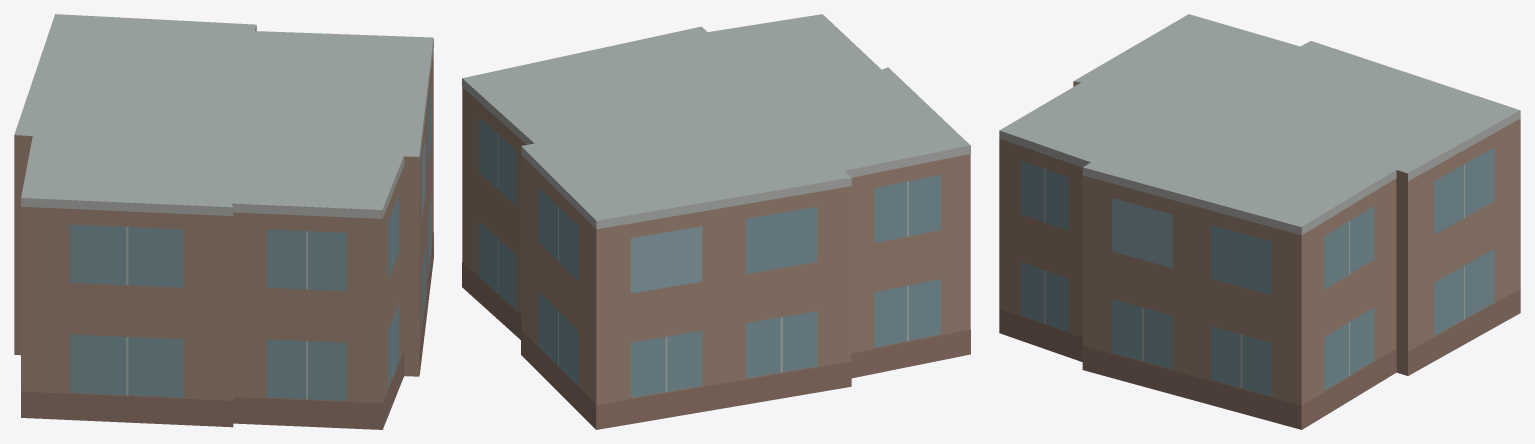
Rendered from survey-upis-32812461.glb.
3 renders of one model, left to right at view 1: azimuth 30°, elevation 25°; view 2: azimuth 150°, elevation 25°; view 3: azimuth 270°, elevation 25°, orthographic. The views are drawn at different scales.
Parts seen in each view (by area): view 1: survey-upis-32812461.tmp; view 2: survey-upis-32812461.tmp; view 3: survey-upis-32812461.tmp.
Boxes of the visible parts, x1,y1,x2,y2 form: survey-upis-32812461.tmp: [14, 14, 433, 429]; survey-upis-32812461.tmp: [462, 14, 970, 429]; survey-upis-32812461.tmp: [999, 14, 1520, 429].
Size of the model in its own units: 13.78 by 6.1 by 14.23.
